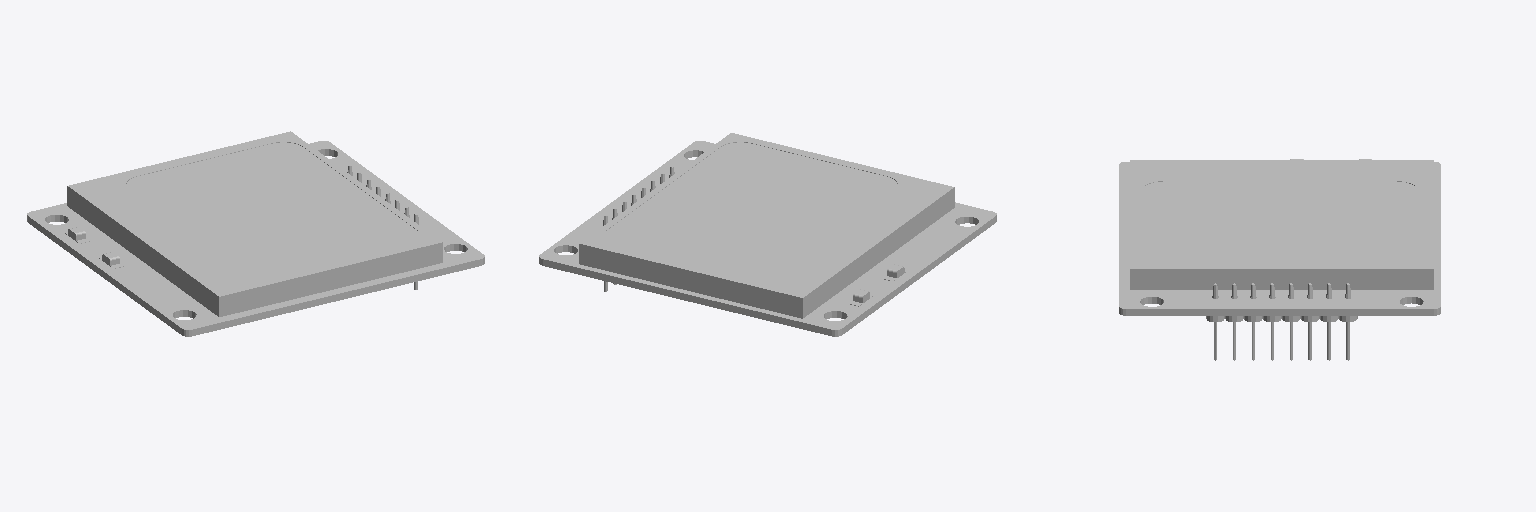
Rendered from Nokia LCD.obj.
3 views of the same model, side by side, from view 1: azimuth 30°, elevation 25°; view 2: azimuth 150°, elevation 25°; view 3: azimuth 270°, elevation 25° (orthographic).
Visible parts, largest first — view 1: Solid1; view 2: Solid1; view 3: Solid1.
Boxes of the visible parts, <box> form: Solid1: <box>27,131,484,336</box>; Solid1: <box>539,133,996,336</box>; Solid1: <box>1119,159,1440,360</box>.
Bounding box in the file's own units: 46 × 12 × 42.5.